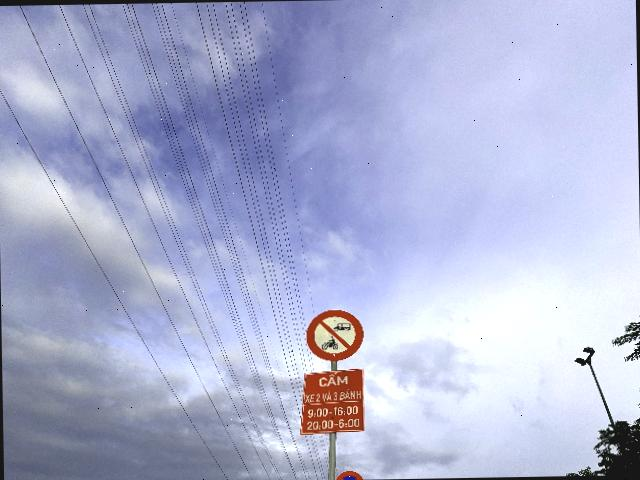cam-xe-2-banh-3-banh: (306, 308, 364, 361)
